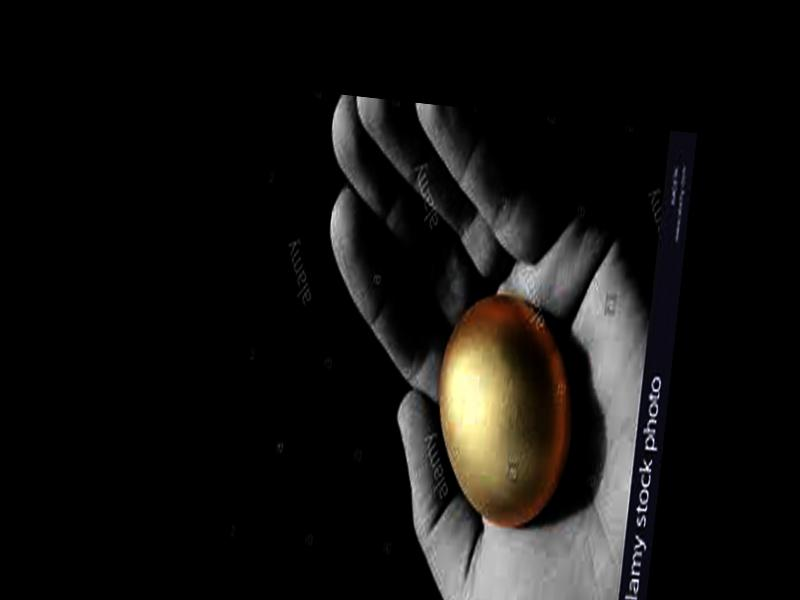Eggs: (425, 288, 582, 529)
